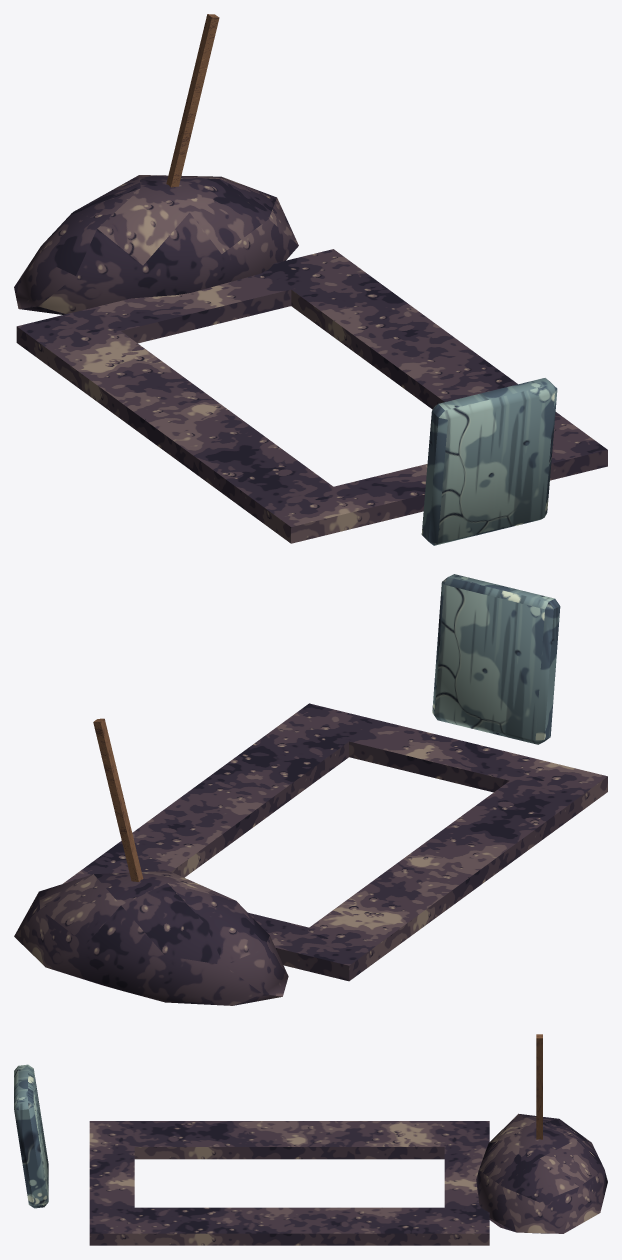
File: open_grave.glb
The picture shows the model from 3 angles, top to bottom: view 1: azimuth 30°, elevation 25°; view 2: azimuth 150°, elevation 25°; view 3: azimuth 270°, elevation 25°; orthographic projection. The views are drawn at different scales.
Visible parts, largest first — view 1: Prop; view 2: Prop; view 3: Prop.
Boxes of the visible parts, x1,y1,x2,y2 form: Prop: (14, 14, 607, 545); Prop: (14, 574, 607, 1005); Prop: (14, 1034, 607, 1245).
Bounding box in the file's own units: 1.6 × 1.19 × 3.56.
4 materials, 4 textured.
